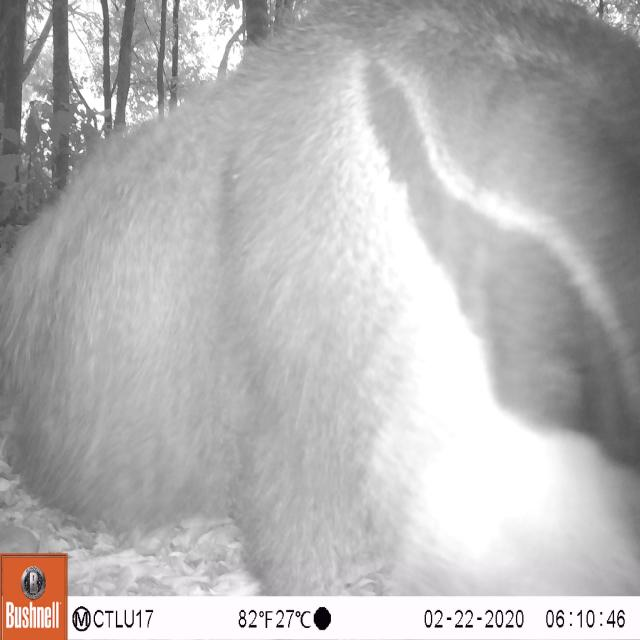Giant Anteater: (1, 0, 639, 593)
